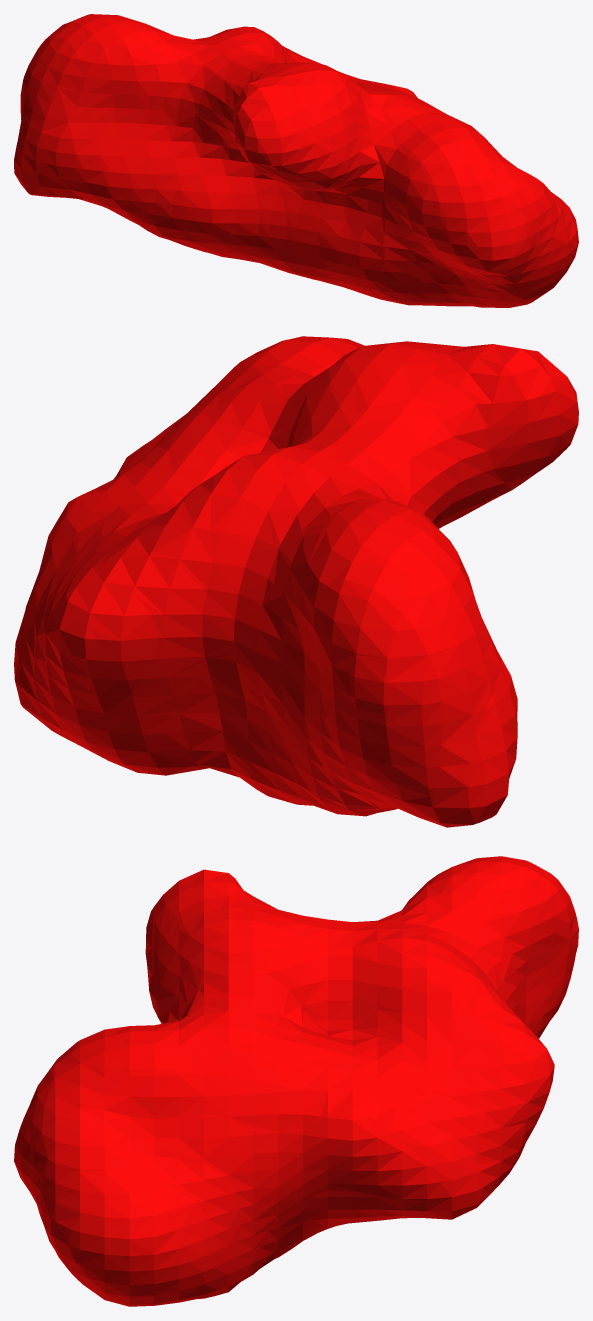
The model's file is yjbD_coarse.dae.
3 views of the same model, one above another, from view 1: azimuth 30°, elevation 25°; view 2: azimuth 150°, elevation 25°; view 3: azimuth 270°, elevation 25° (orthographic). The views are drawn at different scales.
Parts seen in each view (by area): view 1: yjbD; view 2: yjbD; view 3: yjbD.
Boxes of the visible parts, box(x1,y1,x2,y2) form: yjbD: box(14, 14, 578, 307); yjbD: box(14, 336, 578, 827); yjbD: box(14, 856, 578, 1306).
Size of the model in its own units: 47.27 by 29.05 by 48.2.
